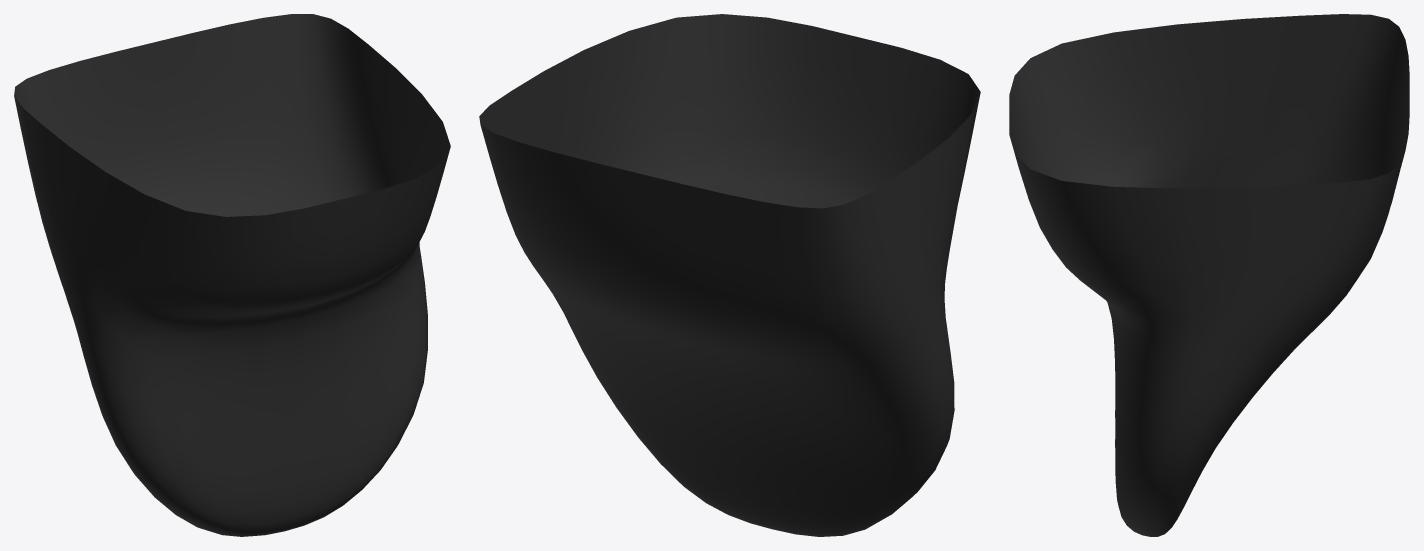
Rendered from vive_trigger.fbx.
The picture shows the model from 3 angles, left to right: view 1: azimuth 30°, elevation 25°; view 2: azimuth 150°, elevation 25°; view 3: azimuth 270°, elevation 25°; orthographic projection. The views are drawn at different scales.
Visible parts, largest first — view 1: trigger group1; view 2: trigger group1; view 3: trigger group1.
Part boxes in pixels (<box>): trigger group1: <box>14,14,450,536</box>; trigger group1: <box>479,14,980,536</box>; trigger group1: <box>1009,14,1409,536</box>.
Size of the model in its own units: 1.91 by 2.22 by 1.91.
Materials: 1 (1 with a texture image).
